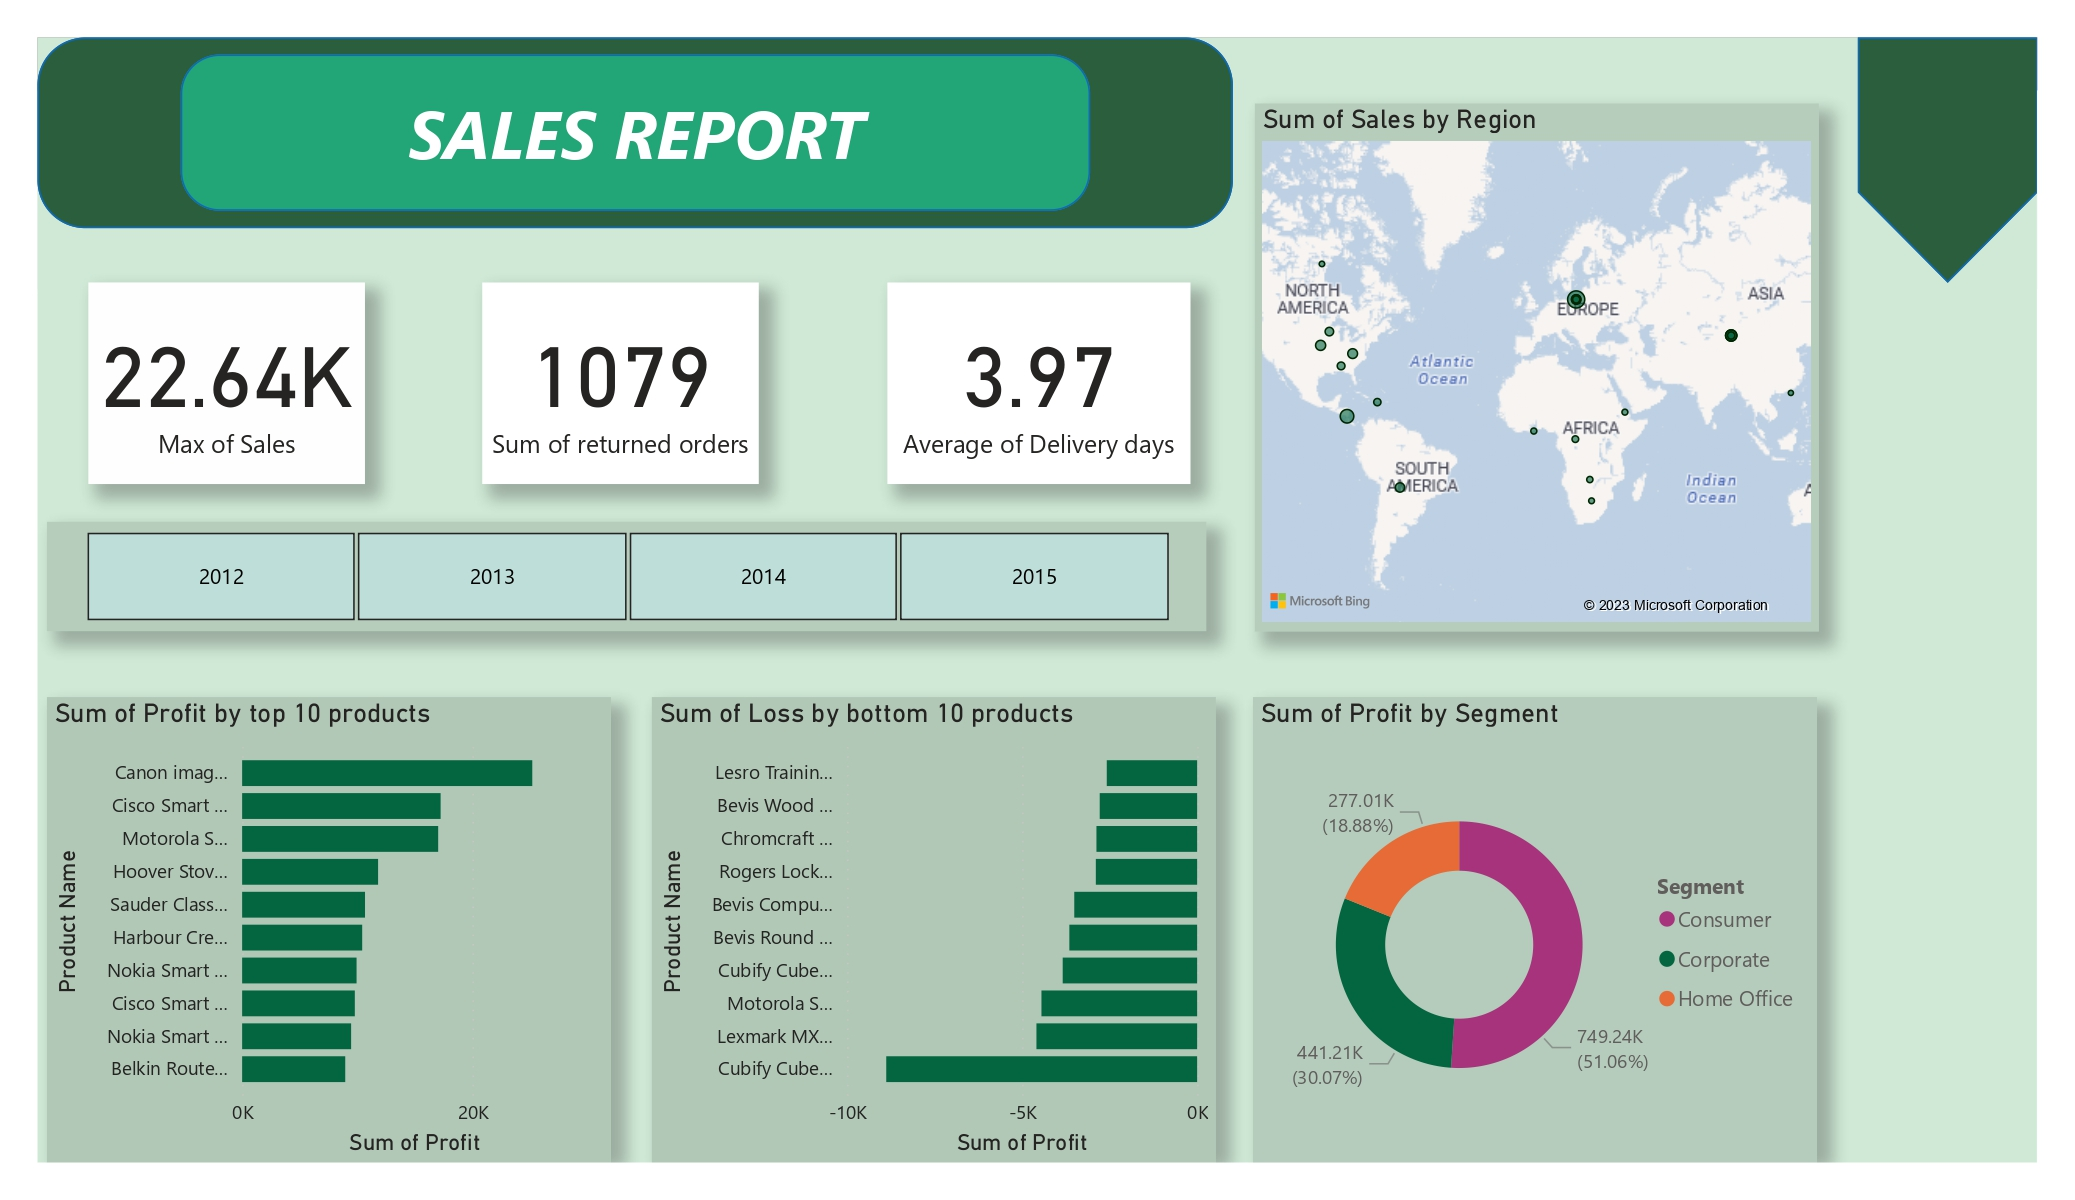

This screenshot's page, from the dashboard's own definition file:
{"tool":"powerbi","page":{"name":"Page 1","canvas":[1280,720],"ordinal":0},"visuals":[{"type":"shape","box":[0,0,765,122.2],"z":0,"group":"g1"},{"type":"barChart","title":"Sum of Profit by top 10 products","fields":{"Y":["Sum(Orders.Profit)"],"Category":["Orders.Product Name"]},"box":[6,422.1,360.6,297.9],"z":0},{"type":"shape","box":[92,11,582.3,100.3],"z":1000,"group":"g1"},{"type":"barChart","title":"Sum of Loss by bottom 10 products","fields":{"Category":["Orders.Product Name"],"Y":["Sum(Orders.Profit)"]},"box":[393.2,422.1,360.6,297.9],"z":1000},{"type":"shape","box":[1164.6,0,115.4,156.6],"z":2000,"group":"g1"},{"type":"donutChart","fields":{"Y":["Sum(Orders.Profit)"],"Series":["Orders.Segment"]},"box":[777.9,422.1,360.6,297.9],"z":2000},{"type":"group","id":"g1","title":"Group 1","box":[0,0,1280,156.6],"z":3000},{"type":"textbox","box":[219.7,26.1,326.9,70],"z":3000,"group":"g1"},{"type":"map","fields":{"Size":["Sum(Orders.Sales)"],"Category":["Orders.Region"]},"box":[779.1,42.2,360.6,337.7],"z":4000},{"type":"slicer","fields":{"Values":["Orders.year"]},"box":[6,309.9,741.7,69.9],"z":5000},{"type":"card","fields":{"Values":["Max(Orders.Sales)"]},"box":[32.6,156.8,177.3,129],"z":6000},{"type":"card","fields":{"Values":["Sum(Returns.returned orders)"]},"box":[284.6,156.8,177.3,129],"z":7000},{"type":"card","fields":{"Values":["Avg(Orders.Delivery days)"]},"box":[543.9,156.8,194.2,129],"z":8000}]}

Visuals, with their boxes in screenshot pixels (x1, y1, x2, y2):
shape: (x1=38, y1=38, x2=1233, y2=228)
"Sum of Profit by top 10 products" barChart: (x1=47, y1=697, x2=610, y2=1162)
shape: (x1=181, y1=55, x2=1091, y2=211)
"Sum of Loss by bottom 10 products" barChart: (x1=652, y1=697, x2=1215, y2=1162)
shape: (x1=1857, y1=38, x2=2038, y2=282)
donutChart - Sum(Orders.Profit) x Orders.Segment: (x1=1253, y1=697, x2=1816, y2=1162)
"Group 1" group: (x1=38, y1=38, x2=2038, y2=282)
textbox: (x1=381, y1=78, x2=892, y2=188)
map - Sum(Orders.Sales) x Orders.Region: (x1=1255, y1=103, x2=1818, y2=631)
slicer - Orders.year: (x1=47, y1=522, x2=1206, y2=631)
card - Max(Orders.Sales): (x1=88, y1=282, x2=365, y2=484)
card - Sum(Returns.returned orders): (x1=482, y1=282, x2=759, y2=484)
card - Avg(Orders.Delivery days): (x1=887, y1=282, x2=1191, y2=484)
